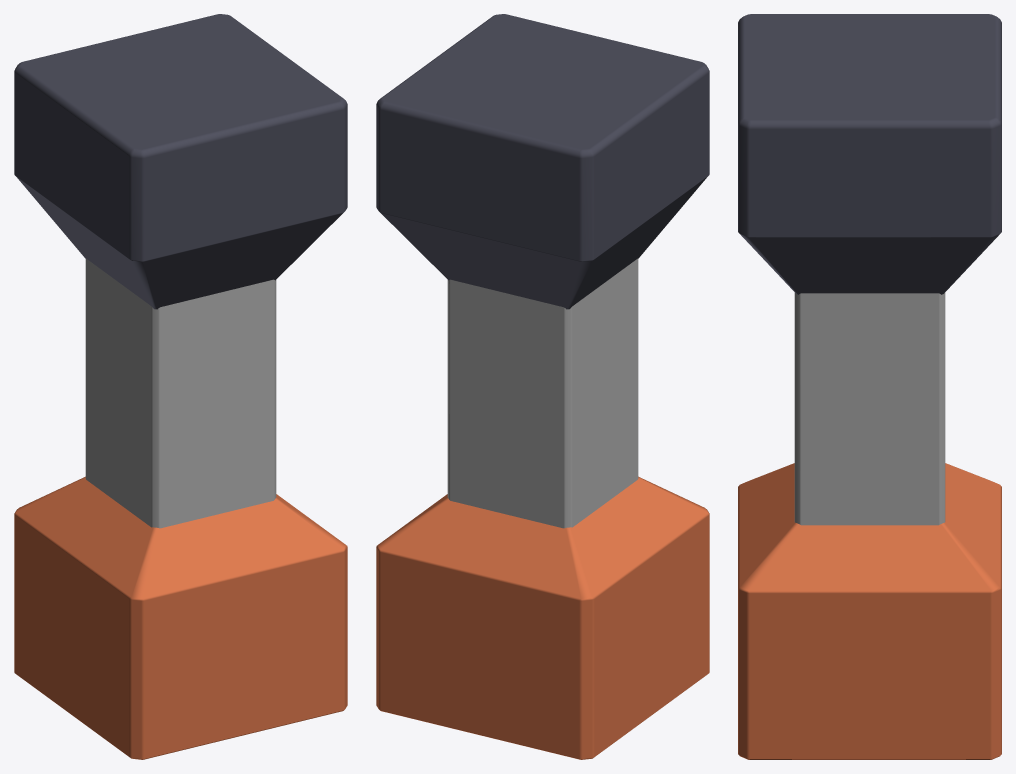
Rendered from Env5_Pillar.fbx.
The picture shows the model from 3 angles, left to right: view 1: azimuth 30°, elevation 25°; view 2: azimuth 150°, elevation 25°; view 3: azimuth 270°, elevation 25°; orthographic projection. The views are drawn at different scales.
Parts seen in each view (by area): view 1: Env5_Pillar; view 2: Env5_Pillar; view 3: Env5_Pillar.
Part boxes in pixels (box(x1,y1,x2,y2)): Env5_Pillar: box(14, 14, 347, 759); Env5_Pillar: box(376, 14, 709, 759); Env5_Pillar: box(738, 14, 1001, 759).
Bounding box in the file's own units: 76.47 × 204 × 76.47.
